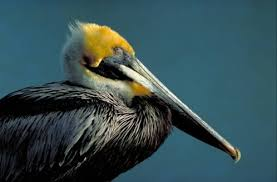pelican: (1, 22, 247, 179)
